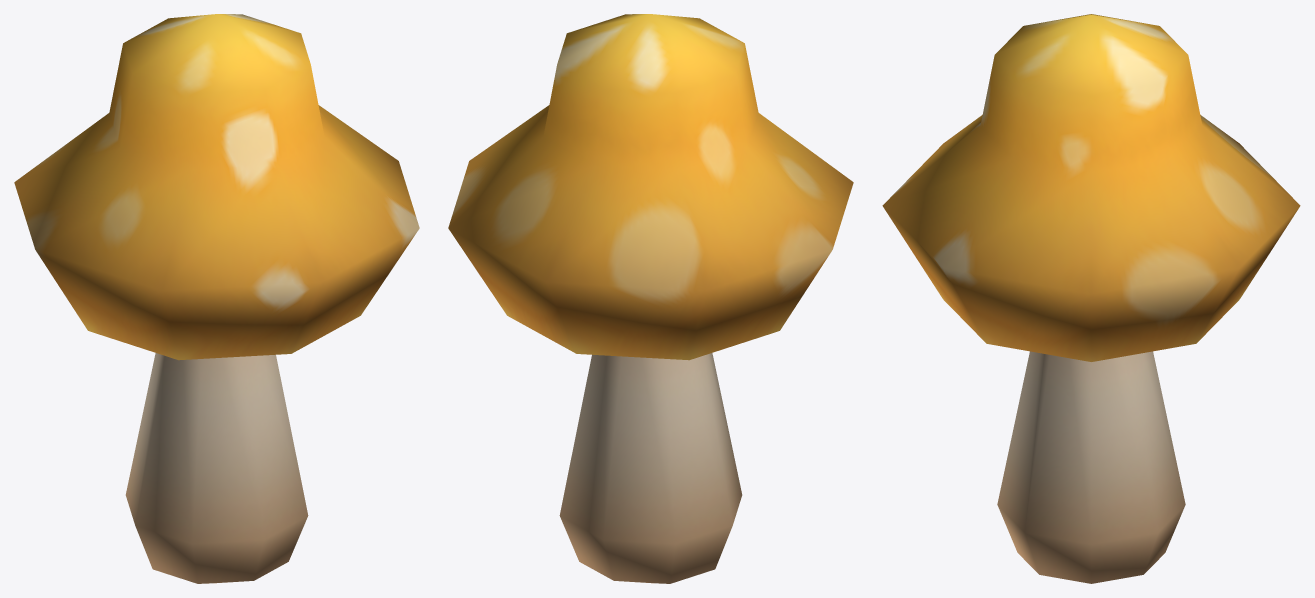
File: MushroomYellow02.FBX
3 views of the same model, side by side, from view 1: azimuth 30°, elevation 25°; view 2: azimuth 150°, elevation 25°; view 3: azimuth 270°, elevation 25° (orthographic).
Parts seen in each view (by area): view 1: MushroomYellow02; view 2: MushroomYellow02; view 3: MushroomYellow02.
Part boxes in pixels (box(x1,y1,x2,y2)): MushroomYellow02: box(14, 14, 419, 583); MushroomYellow02: box(448, 14, 853, 583); MushroomYellow02: box(882, 14, 1300, 583).
Bounding box in the file's own units: 81.13 × 121 × 81.13.
